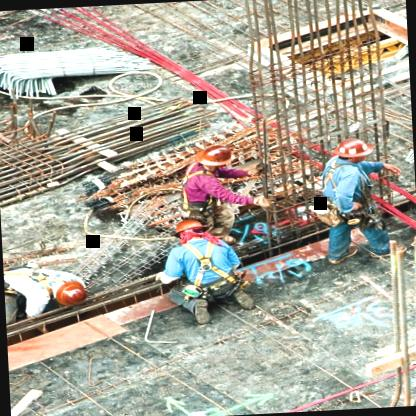helmet: (333, 136, 374, 164), (195, 142, 235, 170), (53, 279, 90, 308), (173, 217, 206, 243)
